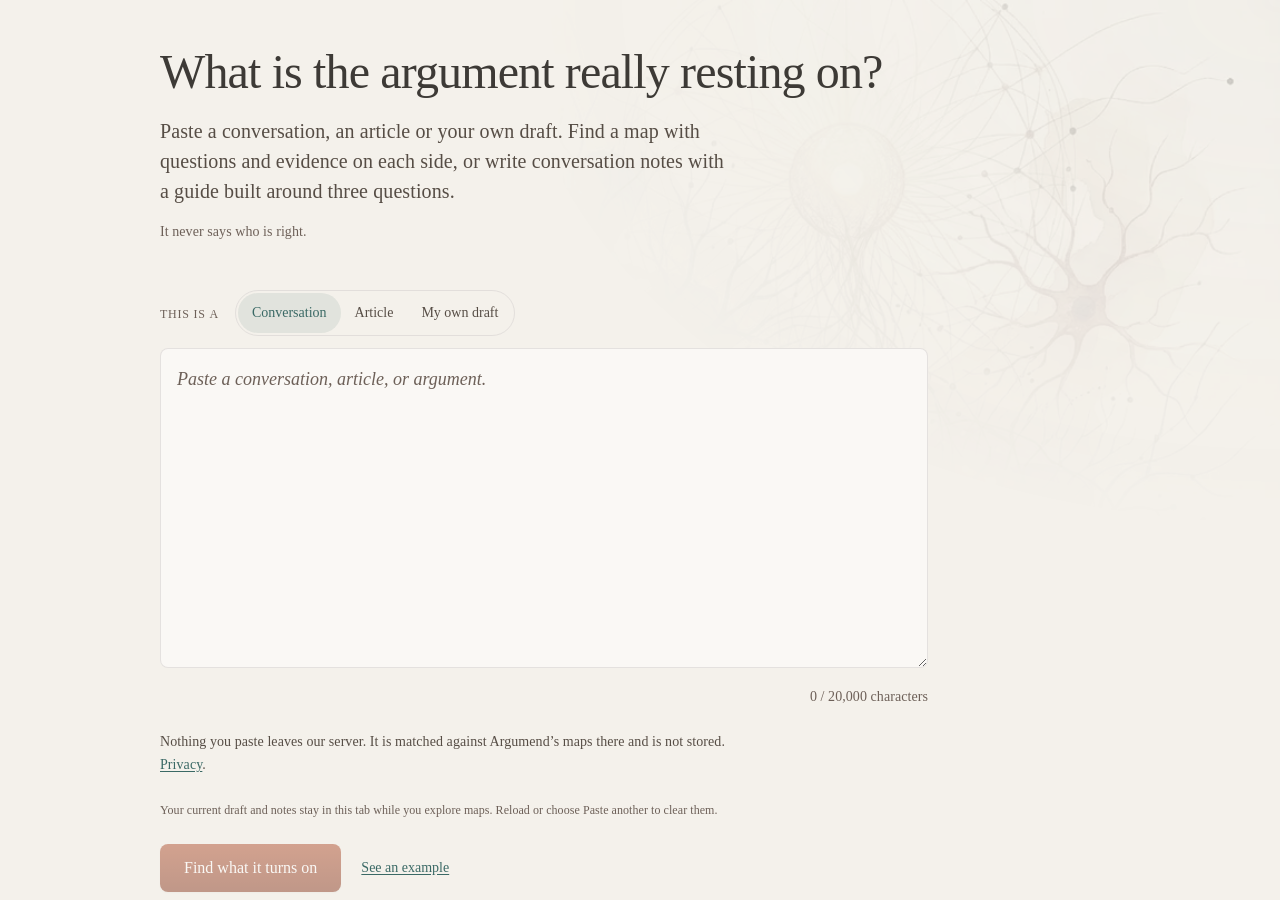
PasteClient with every lane off (production today) › keeps a retryable input when the map response has missing result fields
Click the button "See an example" at (405, 868), box [361,846,449,890]
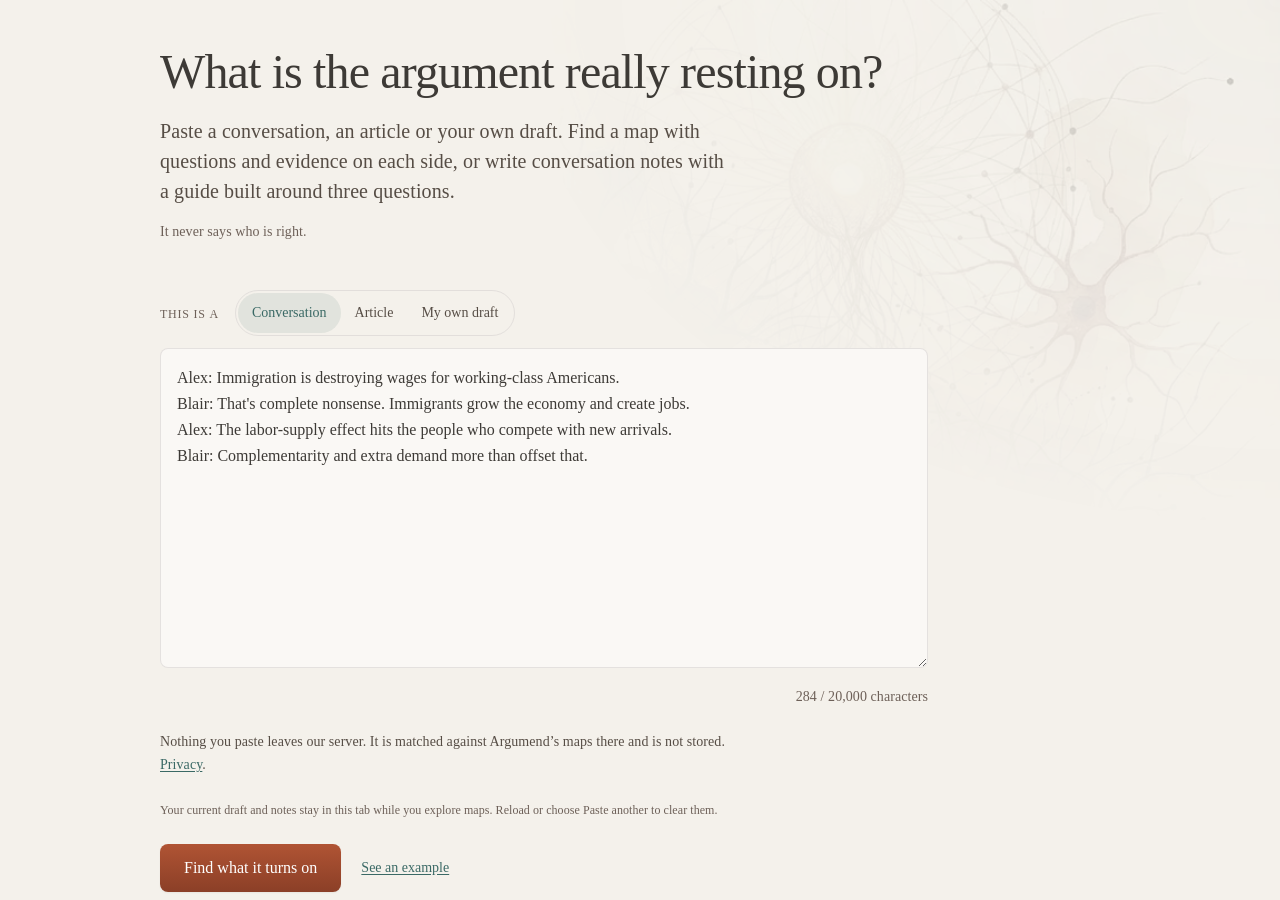
Click the button "Find what it turns on" at (251, 868), box [160,844,341,892]
(page scrolled)
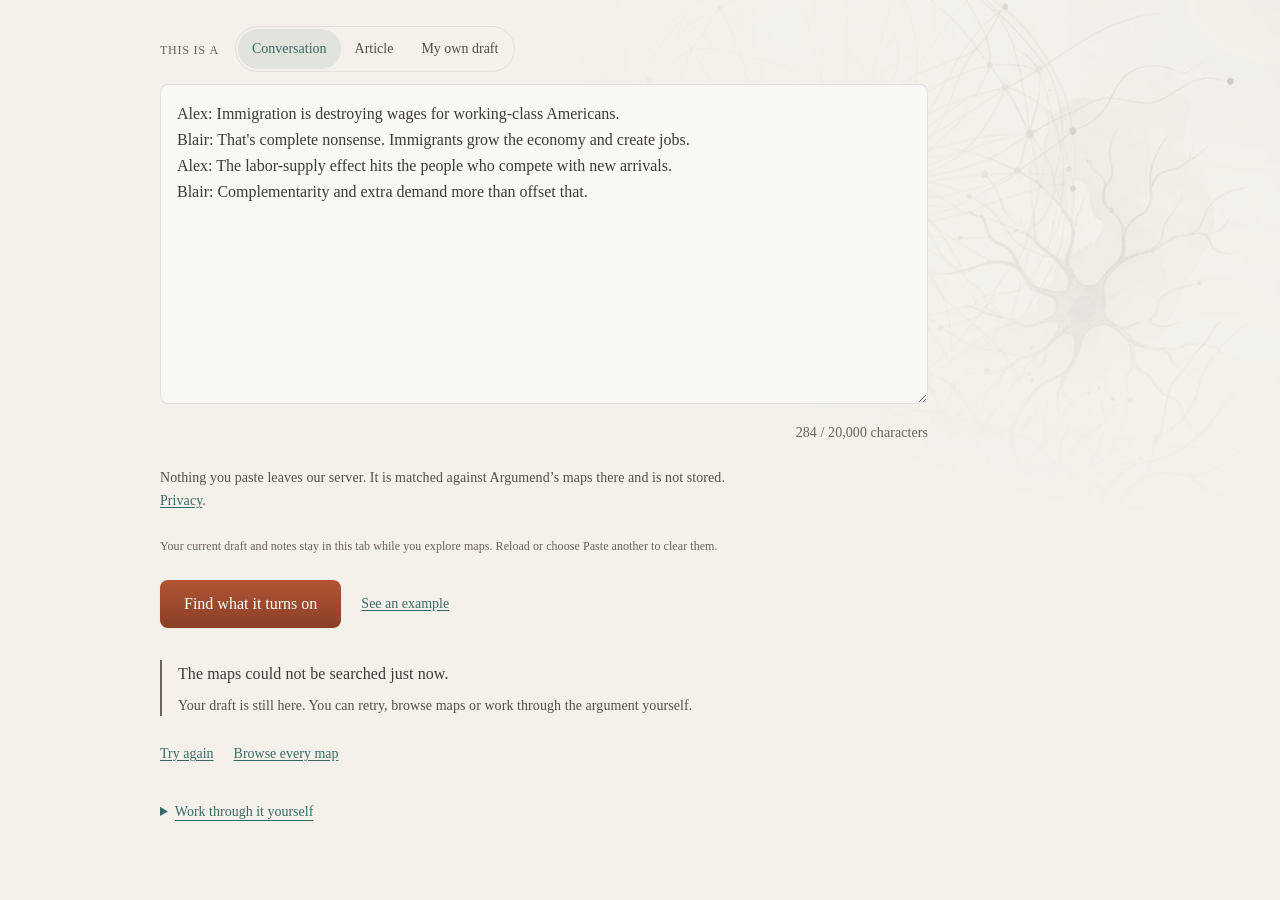
Result: the message is shown at [160,660,928,716]
Result: the message shows "The maps could not be searched just now." at [178,665,448,682]
Result: the button "Try again" is shown at [160,732,214,776]
